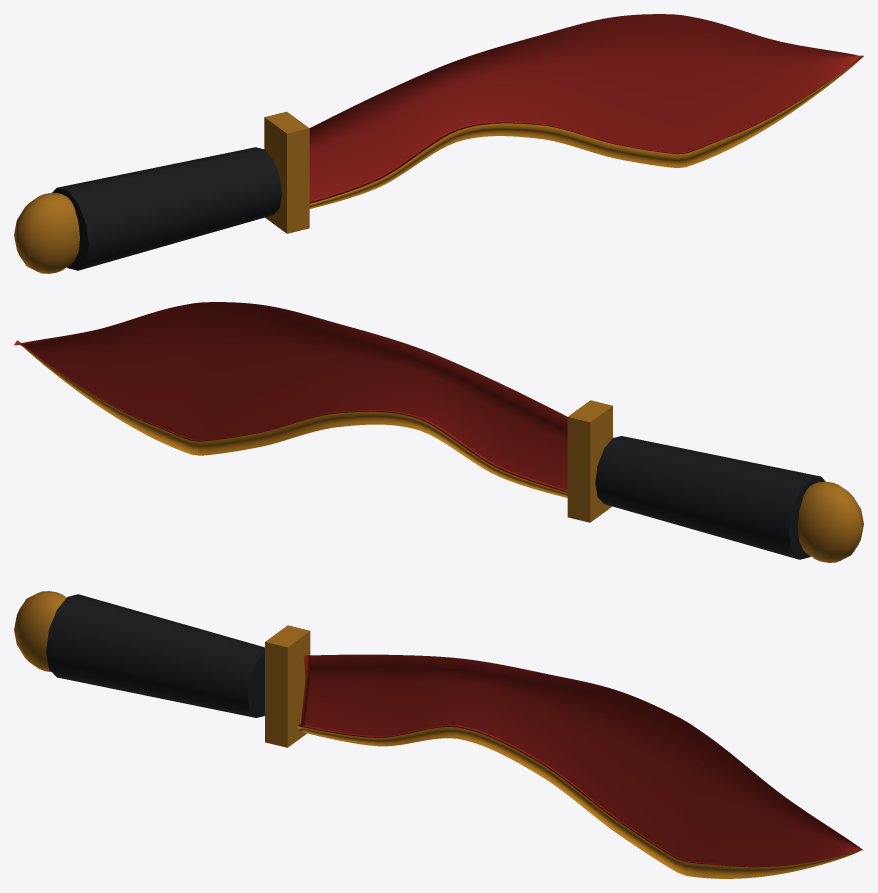
Rendered from dragonfang-kukri-form-002.glb.
The picture shows the model from 3 angles, top to bottom: view 1: azimuth 30°, elevation 25°; view 2: azimuth 150°, elevation 25°; view 3: azimuth 330°, elevation 25°; orthographic projection.
Parts seen in each view (by area): view 1: knife-part:blade-body, knife-part:grip, knife-part:cutting-edge, knife-part:guard, knife-part:pommel; view 2: knife-part:blade-body, knife-part:grip, knife-part:cutting-edge, knife-part:guard, knife-part:pommel; view 3: knife-part:blade-body, knife-part:grip, knife-part:cutting-edge, knife-part:guard, knife-part:pommel.
Boxes of the visible parts, x1,y1,x2,y2 form: knife-part:blade-body: [309, 14, 863, 203]; knife-part:grip: [52, 147, 281, 270]; knife-part:cutting-edge: [309, 56, 863, 208]; knife-part:guard: [264, 111, 309, 233]; knife-part:pommel: [14, 193, 79, 273]; knife-part:blade-body: [14, 302, 567, 492]; knife-part:grip: [595, 436, 825, 559]; knife-part:cutting-edge: [24, 347, 567, 497]; knife-part:guard: [567, 400, 612, 522]; knife-part:pommel: [797, 481, 863, 562]; knife-part:blade-body: [297, 654, 862, 867]; knife-part:grip: [46, 594, 264, 717]; knife-part:cutting-edge: [297, 726, 860, 878]; knife-part:guard: [265, 625, 310, 747]; knife-part:pommel: [14, 591, 66, 672].
Bounding box in the file's own units: 3 × 0.5607 × 0.264.
